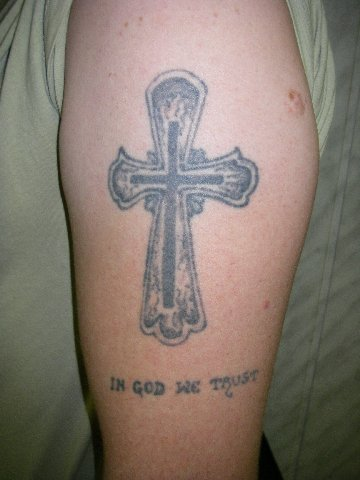tatu9_krest: (100, 66, 264, 354)
